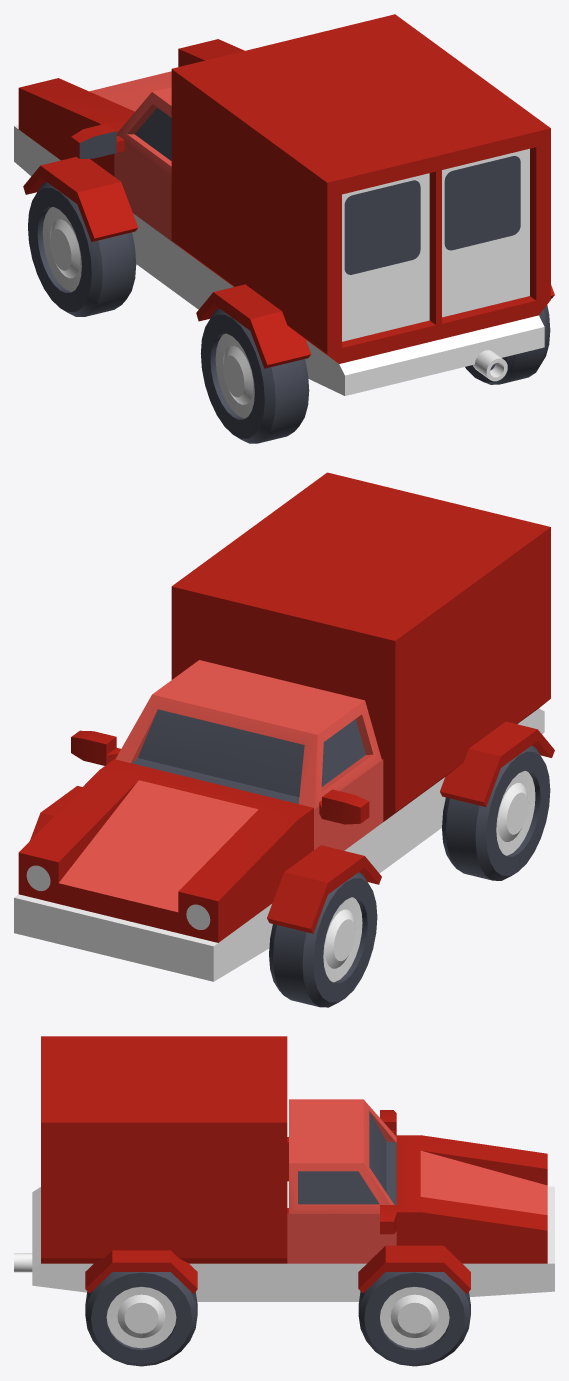
File: Traffic Van Red.fbx
3 renders of one model, top to bottom at view 1: azimuth 30°, elevation 25°; view 2: azimuth 150°, elevation 25°; view 3: azimuth 270°, elevation 25°, orthographic. The views are drawn at different scales.
Parts seen in each view (by area): view 1: trunk_truck_177, windshield_truck_178, wheel_small_182, wheel_small_180, hood_square_147, detail_fenderSquare_179, detail_fenderSquare_181, wheel_small_164, detail_mirror_155, detail_exhaust_168; view 2: trunk_truck_177, hood_square_147, windshield_truck_178, wheel_small_180, wheel_small_182, detail_fenderSquare_179, detail_fenderSquare_181, detail_mirror_155, detail_mirror_156; view 3: trunk_truck_177, hood_square_147, windshield_truck_178, wheel_small_164, wheel_small_166, detail_fenderSquare_165, detail_fenderSquare_163, detail_mirror_156.
Boxes of the visible parts, left/top/right/bottom form: trunk_truck_177: left=171, top=14, right=550, bottom=395; windshield_truck_178: left=114, top=87, right=229, bottom=309; wheel_small_182: left=200, top=308, right=309, bottom=443; wheel_small_180: left=28, top=181, right=136, bottom=316; hood_square_147: left=14, top=39, right=244, bottom=176; detail_fenderSquare_179: left=23, top=156, right=138, bottom=241; detail_fenderSquare_181: left=196, top=284, right=311, bottom=368; wheel_small_164: left=465, top=305, right=550, bottom=384; detail_mirror_155: left=71, top=123, right=124, bottom=158; detail_exhaust_168: left=472, top=350, right=507, bottom=381; trunk_truck_177: left=171, top=472, right=550, bottom=870; hood_square_147: left=14, top=759, right=313, bottom=981; windshield_truck_178: left=115, top=660, right=429, bottom=873; wheel_small_180: left=269, top=872, right=377, bottom=1007; wheel_small_182: left=442, top=745, right=550, bottom=880; detail_fenderSquare_179: left=267, top=845, right=381, bottom=933; detail_fenderSquare_181: left=440, top=721, right=554, bottom=806; detail_mirror_155: left=319, top=789, right=369, bottom=824; detail_mirror_156: left=71, top=730, right=120, bottom=765; trunk_truck_177: left=32, top=1036, right=287, bottom=1301; hood_square_147: left=396, top=1135, right=554, bottom=1296; windshield_truck_178: left=214, top=1099, right=396, bottom=1301; wheel_small_164: left=85, top=1272, right=197, bottom=1366; wheel_small_166: left=358, top=1272, right=470, bottom=1366; detail_fenderSquare_165: left=358, top=1245, right=470, bottom=1293; detail_fenderSquare_163: left=85, top=1250, right=197, bottom=1293; detail_mirror_156: left=380, top=1205, right=396, bottom=1234.
Bounding box in the file's own units: 14.5 × 14.22 × 29.7.
